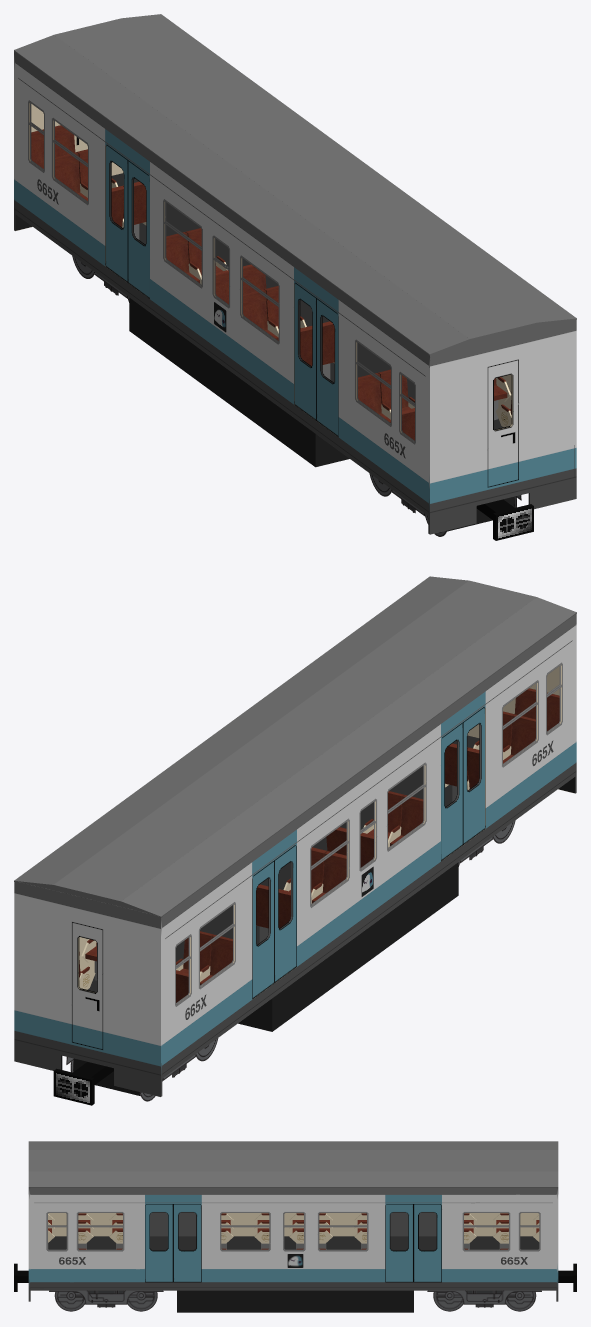
The model's file is car.obj.
3 views of the same model, one above another, from view 1: azimuth 30°, elevation 25°; view 2: azimuth 150°, elevation 25°; view 3: azimuth 270°, elevation 25° (orthographic). The views are drawn at different scales.
Parts seen in each view (by area): view 1: body, body_inside, bogies, door_RB, door_RF; view 2: body, body_inside, bogies, door_RF, door_RB; view 3: body, body_inside, bogies, door_LF, door_LB, door_RF_inside, door_RB_inside.
Part boxes in pixels (x1=…): body: x1=14, y1=14, x2=576, y2=534; body_inside: x1=15, y1=103, x2=574, y2=504; bogies: x1=72, y1=256, x2=533, y2=540; door_RB: x1=105, y1=144, x2=316, y2=420; door_RF: x1=128, y1=160, x2=338, y2=436; body: x1=14, y1=576, x2=576, y2=1096; body_inside: x1=61, y1=665, x2=575, y2=1069; bogies: x1=53, y1=820, x2=515, y2=1105; door_RF: x1=274, y1=707, x2=485, y2=982; door_RB: x1=252, y1=722, x2=462, y2=998; body: x1=28, y1=1141, x2=558, y2=1301; body_inside: x1=48, y1=1213, x2=539, y2=1250; bogies: x1=14, y1=1263, x2=576, y2=1312; door_LF: x1=173, y1=1204, x2=441, y2=1282; door_LB: x1=145, y1=1204, x2=413, y2=1282; door_RF_inside: x1=150, y1=1212, x2=408, y2=1236; door_RB_inside: x1=178, y1=1212, x2=436, y2=1236.
Size of the model in its own units: 2.38 by 3.39 by 12.31.
Materials: 22 (22 with a texture image).
